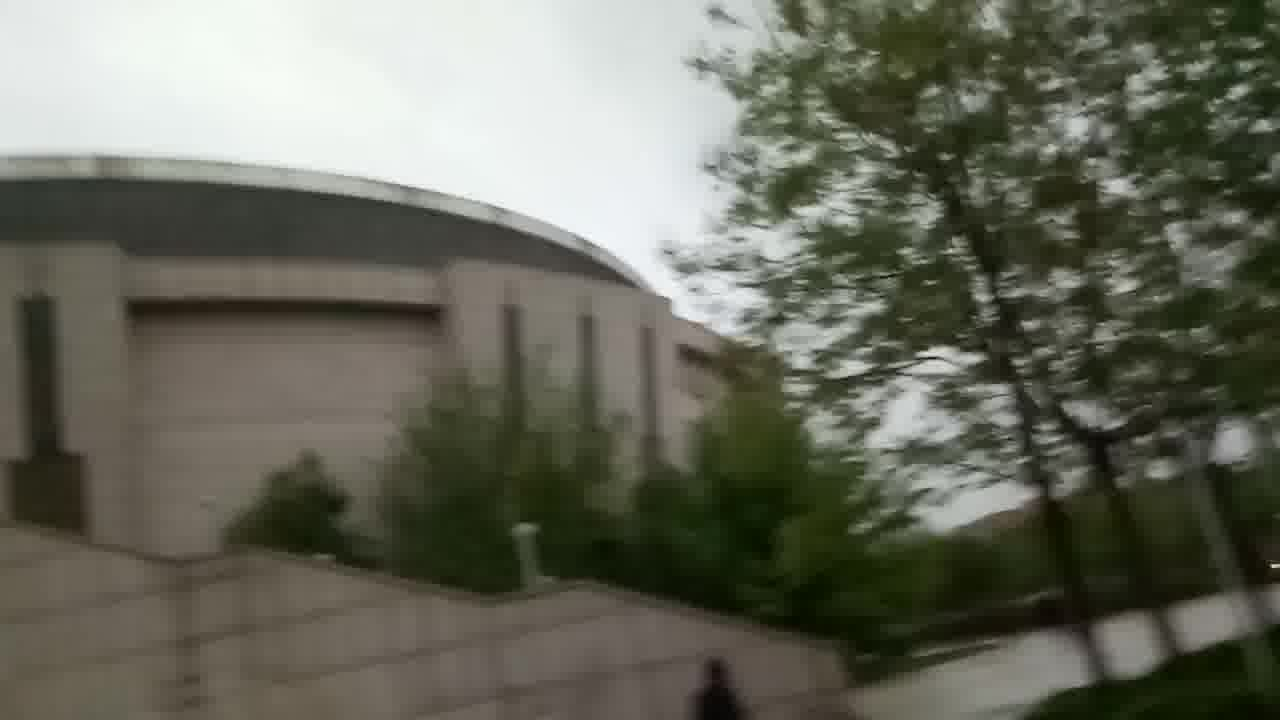zhongtiww: (3, 145, 869, 720)
